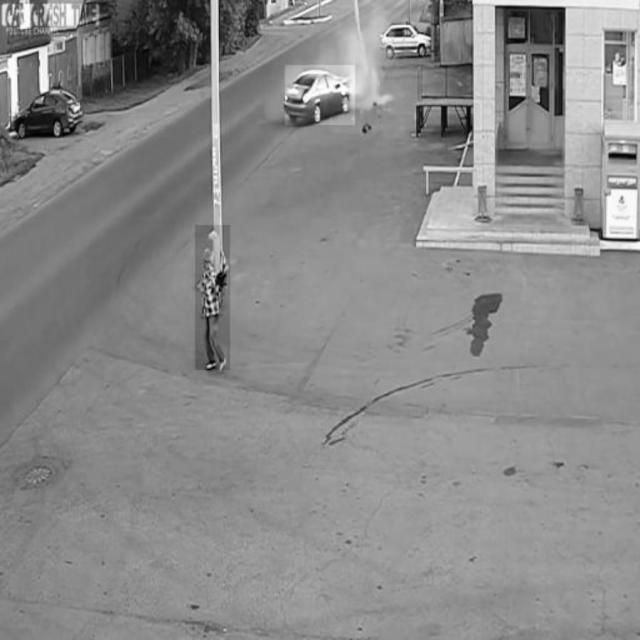person: (195, 225, 230, 369)
vehicle: (285, 66, 356, 126), (12, 86, 85, 140), (378, 18, 434, 58)
